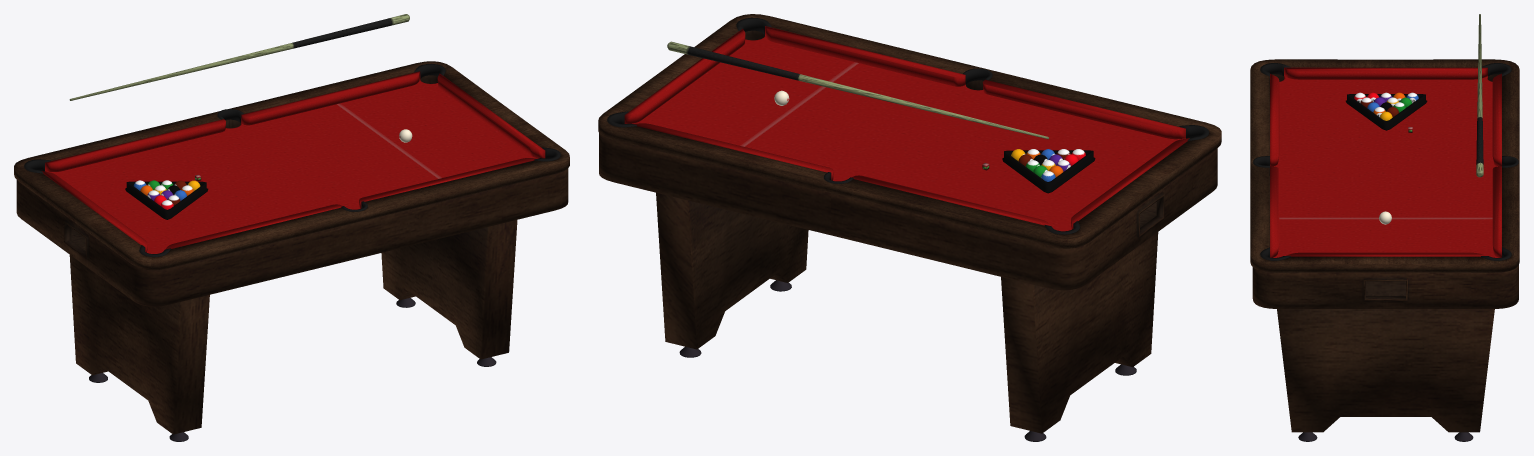
Rendered from pool_table.glb.
3 views of the same model, side by side, from view 1: azimuth 30°, elevation 25°; view 2: azimuth 150°, elevation 25°; view 3: azimuth 270°, elevation 25° (orthographic). The views are drawn at different scales.
Visible parts, largest first — view 1: Object_2; view 2: Object_2; view 3: Object_2.
Boxes of the visible parts, x1,y1,x2,y2 form: Object_2: (14,14,569,441); Object_2: (598,14,1221,441); Object_2: (1250,14,1519,441).
Bounding box in the file's own units: 2.41 × 1.49 × 1.34.
Materials: 1 (1 with a texture image).
